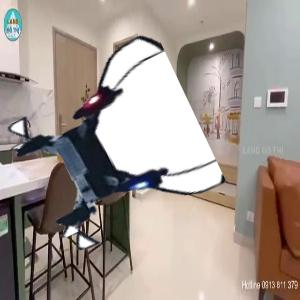drone: (16, 58, 203, 245)
